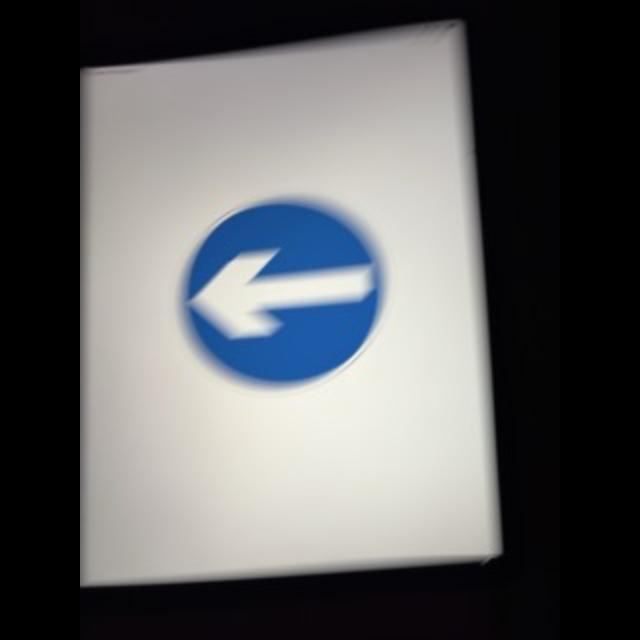TURN LEFT: (184, 197, 382, 383)
